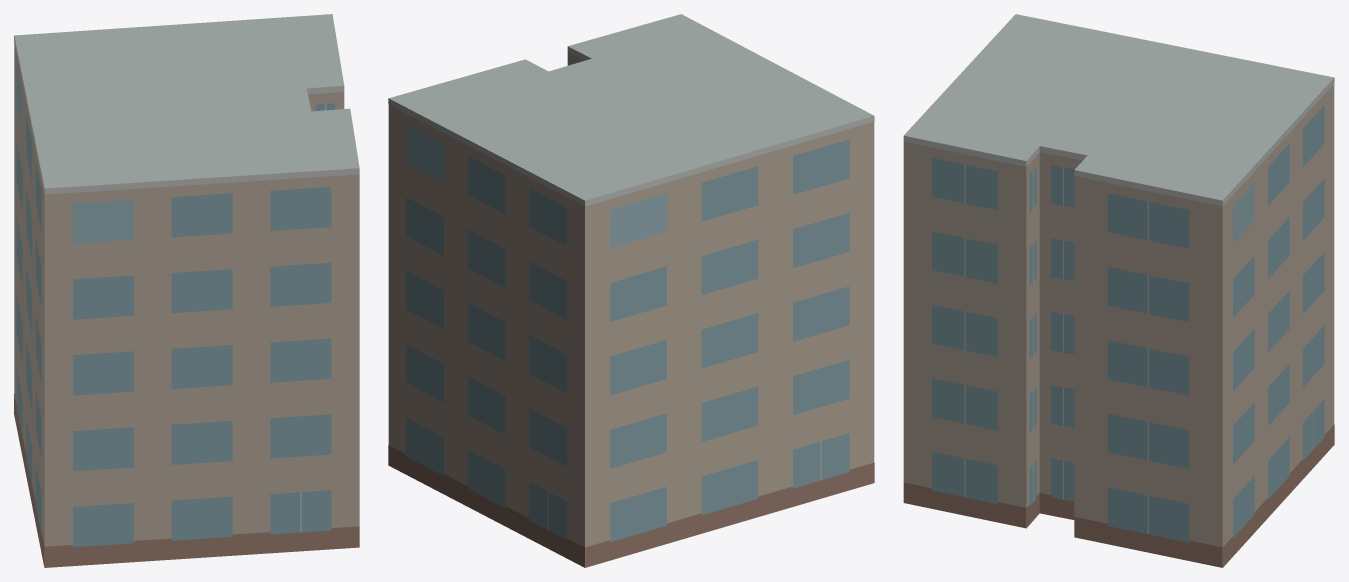
File: survey-upis-32886052.glb
The picture shows the model from 3 angles, left to right: view 1: azimuth 30°, elevation 25°; view 2: azimuth 150°, elevation 25°; view 3: azimuth 270°, elevation 25°; orthographic projection. The views are drawn at different scales.
Parts seen in each view (by area): view 1: survey-upis-32886052.tmp; view 2: survey-upis-32886052.tmp; view 3: survey-upis-32886052.tmp.
Boxes of the visible parts, x1,y1,x2,y2 form: survey-upis-32886052.tmp: (14, 14, 359, 567); survey-upis-32886052.tmp: (388, 14, 874, 567); survey-upis-32886052.tmp: (903, 14, 1334, 567).
Size of the model in its own units: 16.63 by 15.25 by 16.22.
